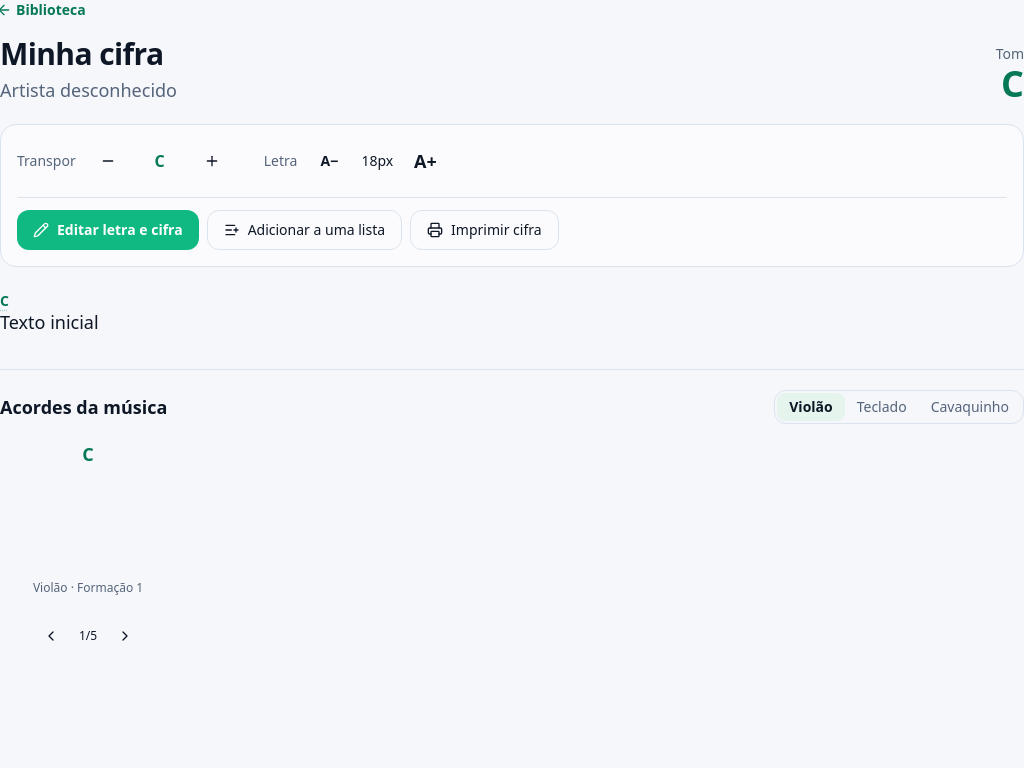
Scenario: shows existing lists in a modal and links the selected one
This screenshot has width=1024, height=768.
Expected: the button "Editar letra e cifra" is shown, [17,210,199,250]
What coordinates should you click on to do the following:
click the button "Adicionar a uma lista"
I would click on:
 (304, 230)
Its box is [207,210,402,250].
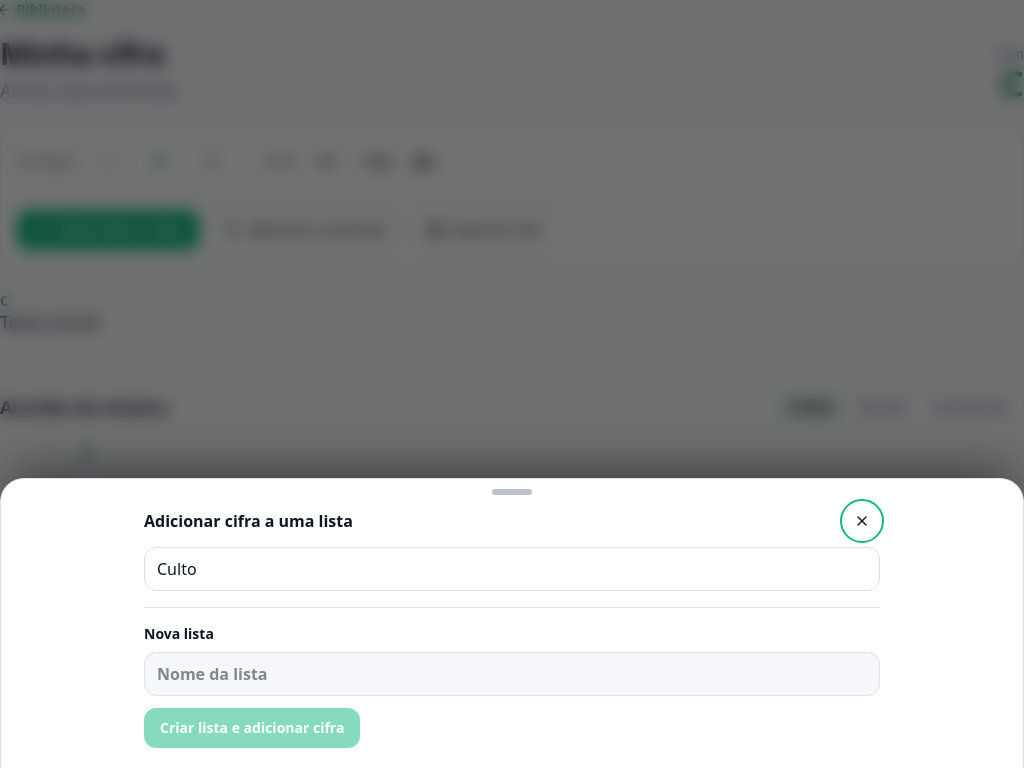
What coordinates should you click on to do the following:
click the button "Culto"
I would click on:
 (177, 569)
Its box is [144,547,880,591].
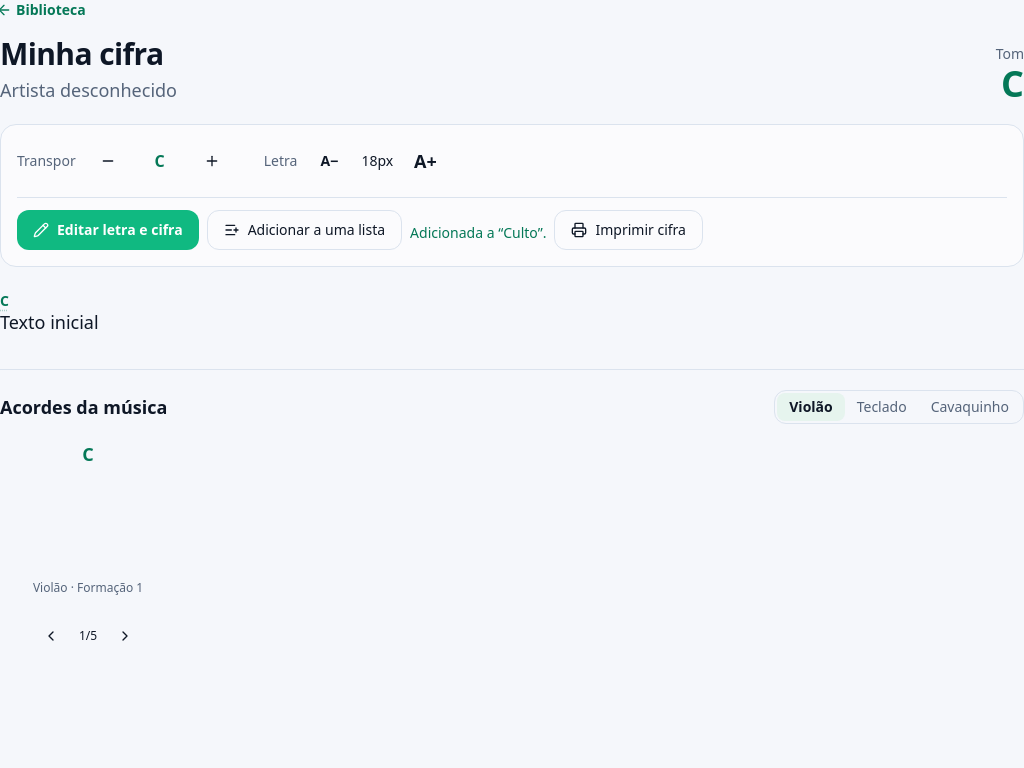
Expected: the text "Adicionada a “Culto”." is shown, [410,223,546,242]
